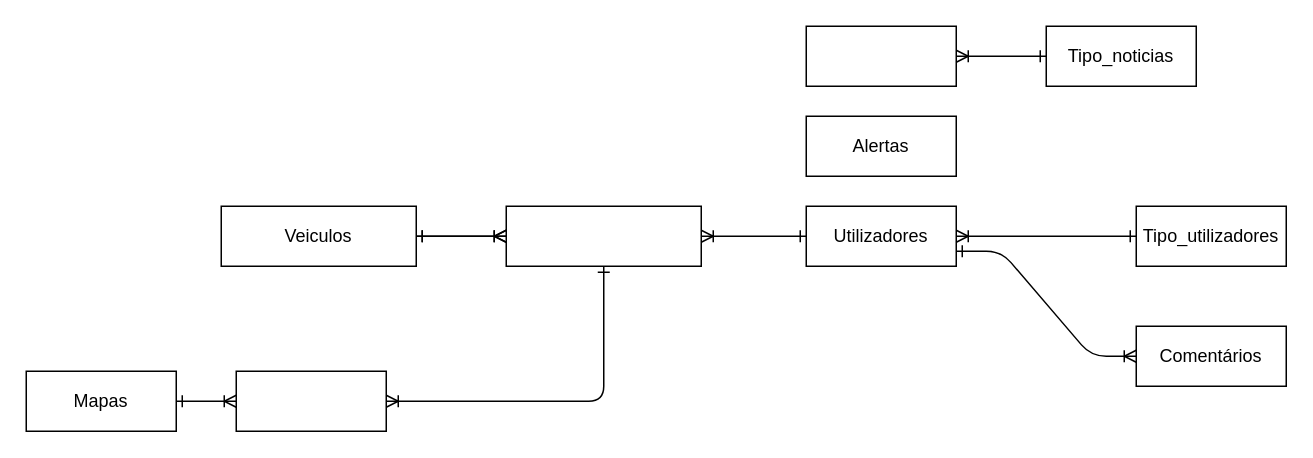
Image size: 1313x458. Some labels were removed from this diagram. Here are the shapes that lost their labels. From the top down, the box of each, then its label:
(805, 25, 956, 86): Noticias
(505, 205, 701, 266): Utilizadores_Veiculos
(235, 370, 386, 431): Jogos
